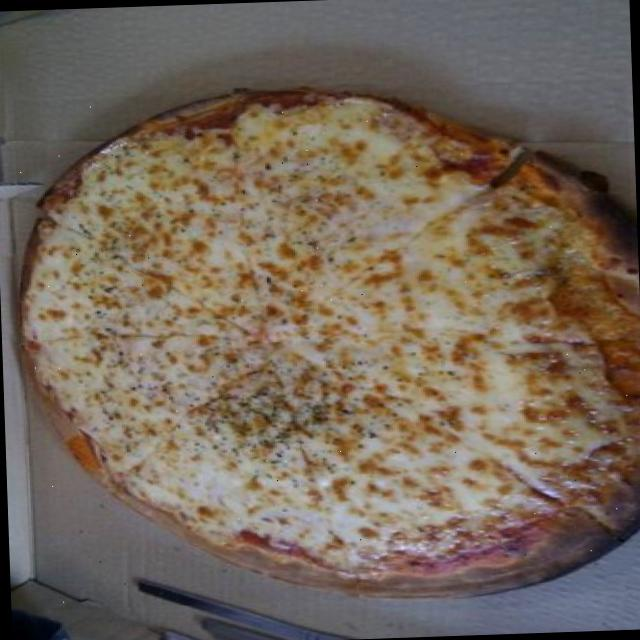pizza: (22, 89, 639, 597)
